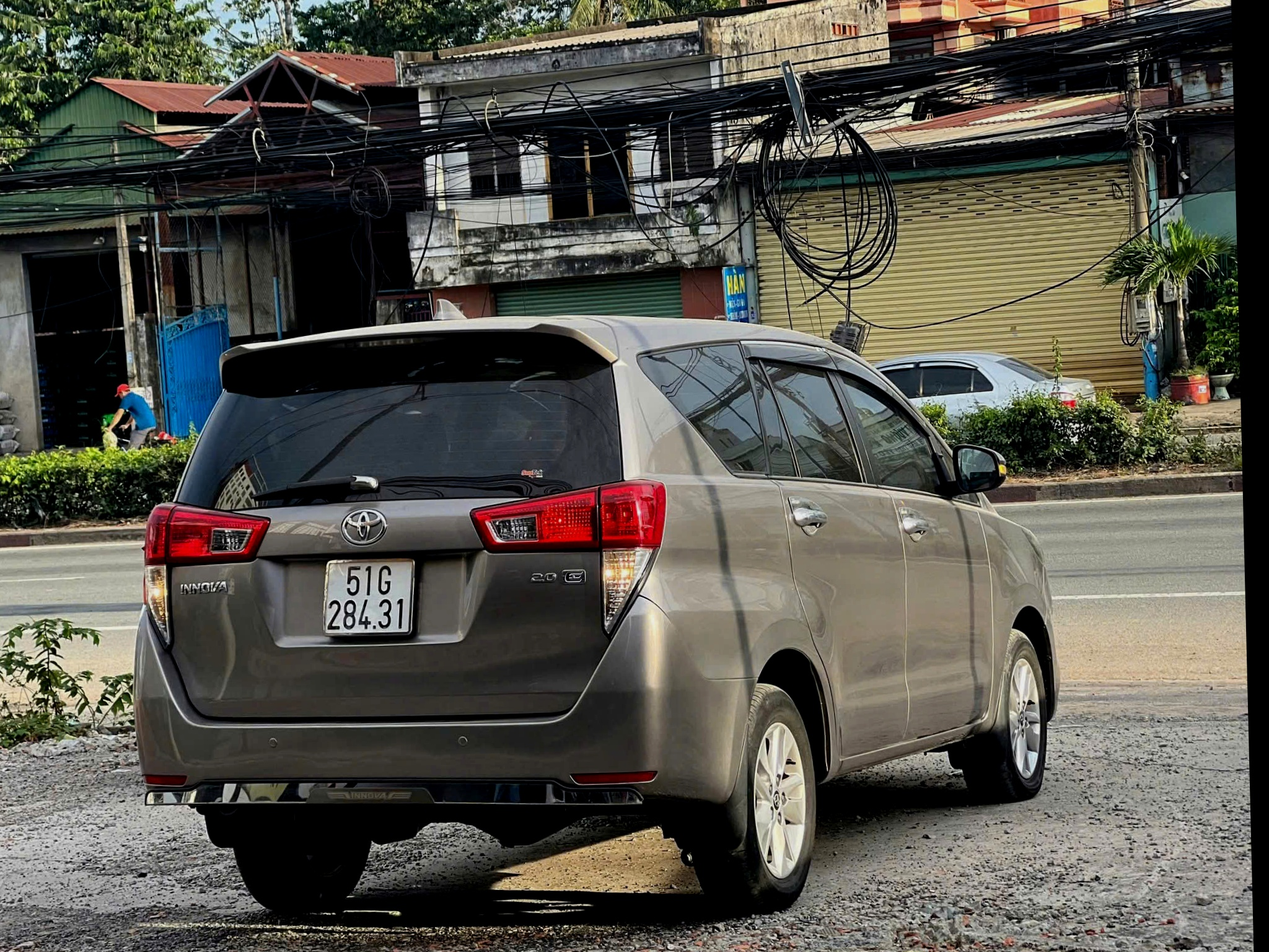Bien-so: (317, 552, 428, 641)
